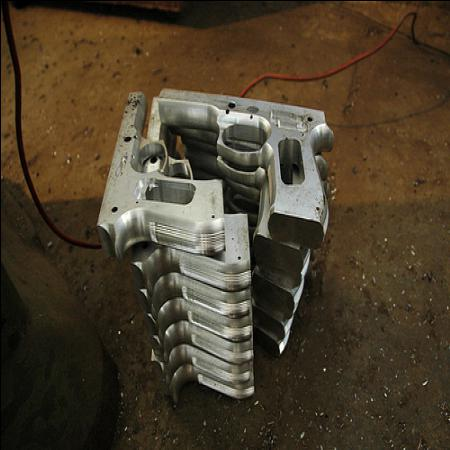Pistol: (158, 82, 335, 248), (97, 87, 225, 258)
